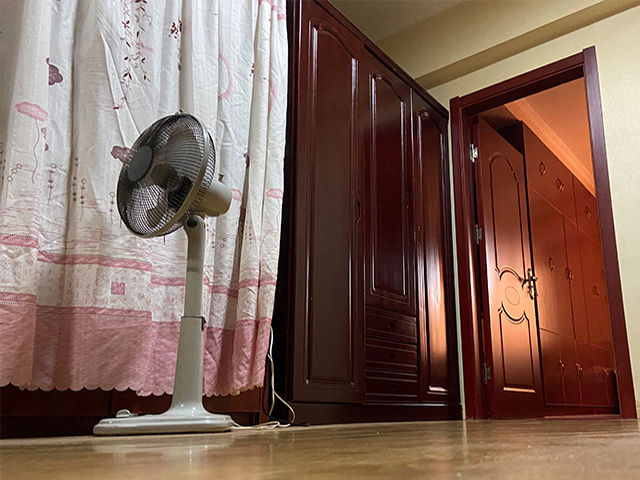cabinet: (293, 1, 462, 438)
curtain: (2, 2, 289, 400)
wire: (234, 327, 297, 432)
